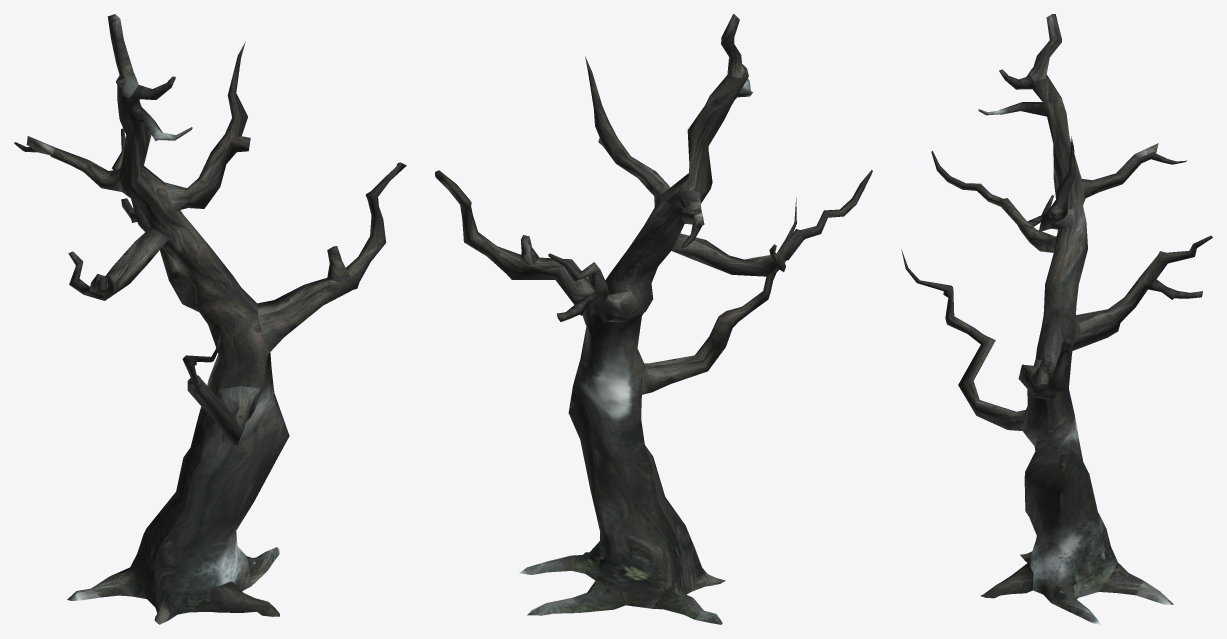
Rendered from shu_03.FBX.
3 views of the same model, side by side, from view 1: azimuth 30°, elevation 25°; view 2: azimuth 150°, elevation 25°; view 3: azimuth 270°, elevation 25° (orthographic). The views are drawn at different scales.
Visible parts, largest first — view 1: 03; view 2: 03; view 3: 03.
Part boxes in pixels (x1=…): 03: x1=14, y1=14, x2=406, y2=624; 03: x1=435, y1=14, x2=872, y2=624; 03: x1=901, y1=14, x2=1212, y2=624.
Bounding box in the file's own units: 11.5 × 17.74 × 9.43.
